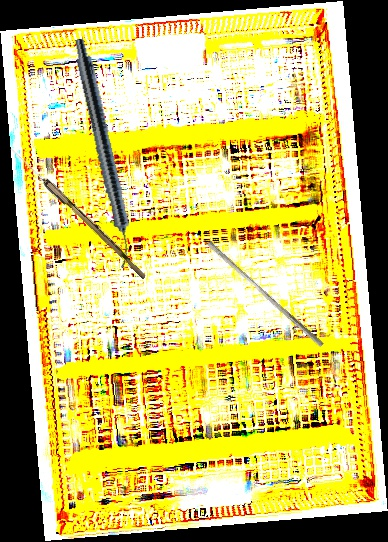Handpiece: (66, 37, 141, 269)
Pusher: (203, 240, 328, 348)
Surgical Spoon: (6, 145, 150, 280)
